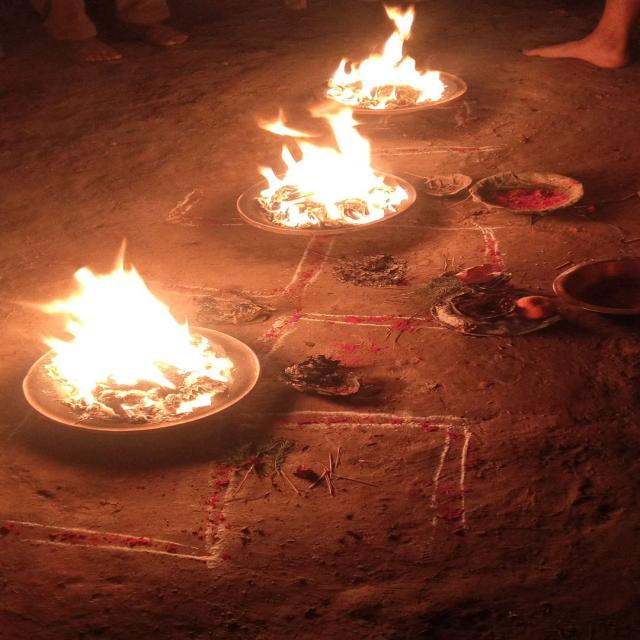fire: (39, 266, 229, 415), (259, 109, 405, 227), (328, 2, 447, 110)
